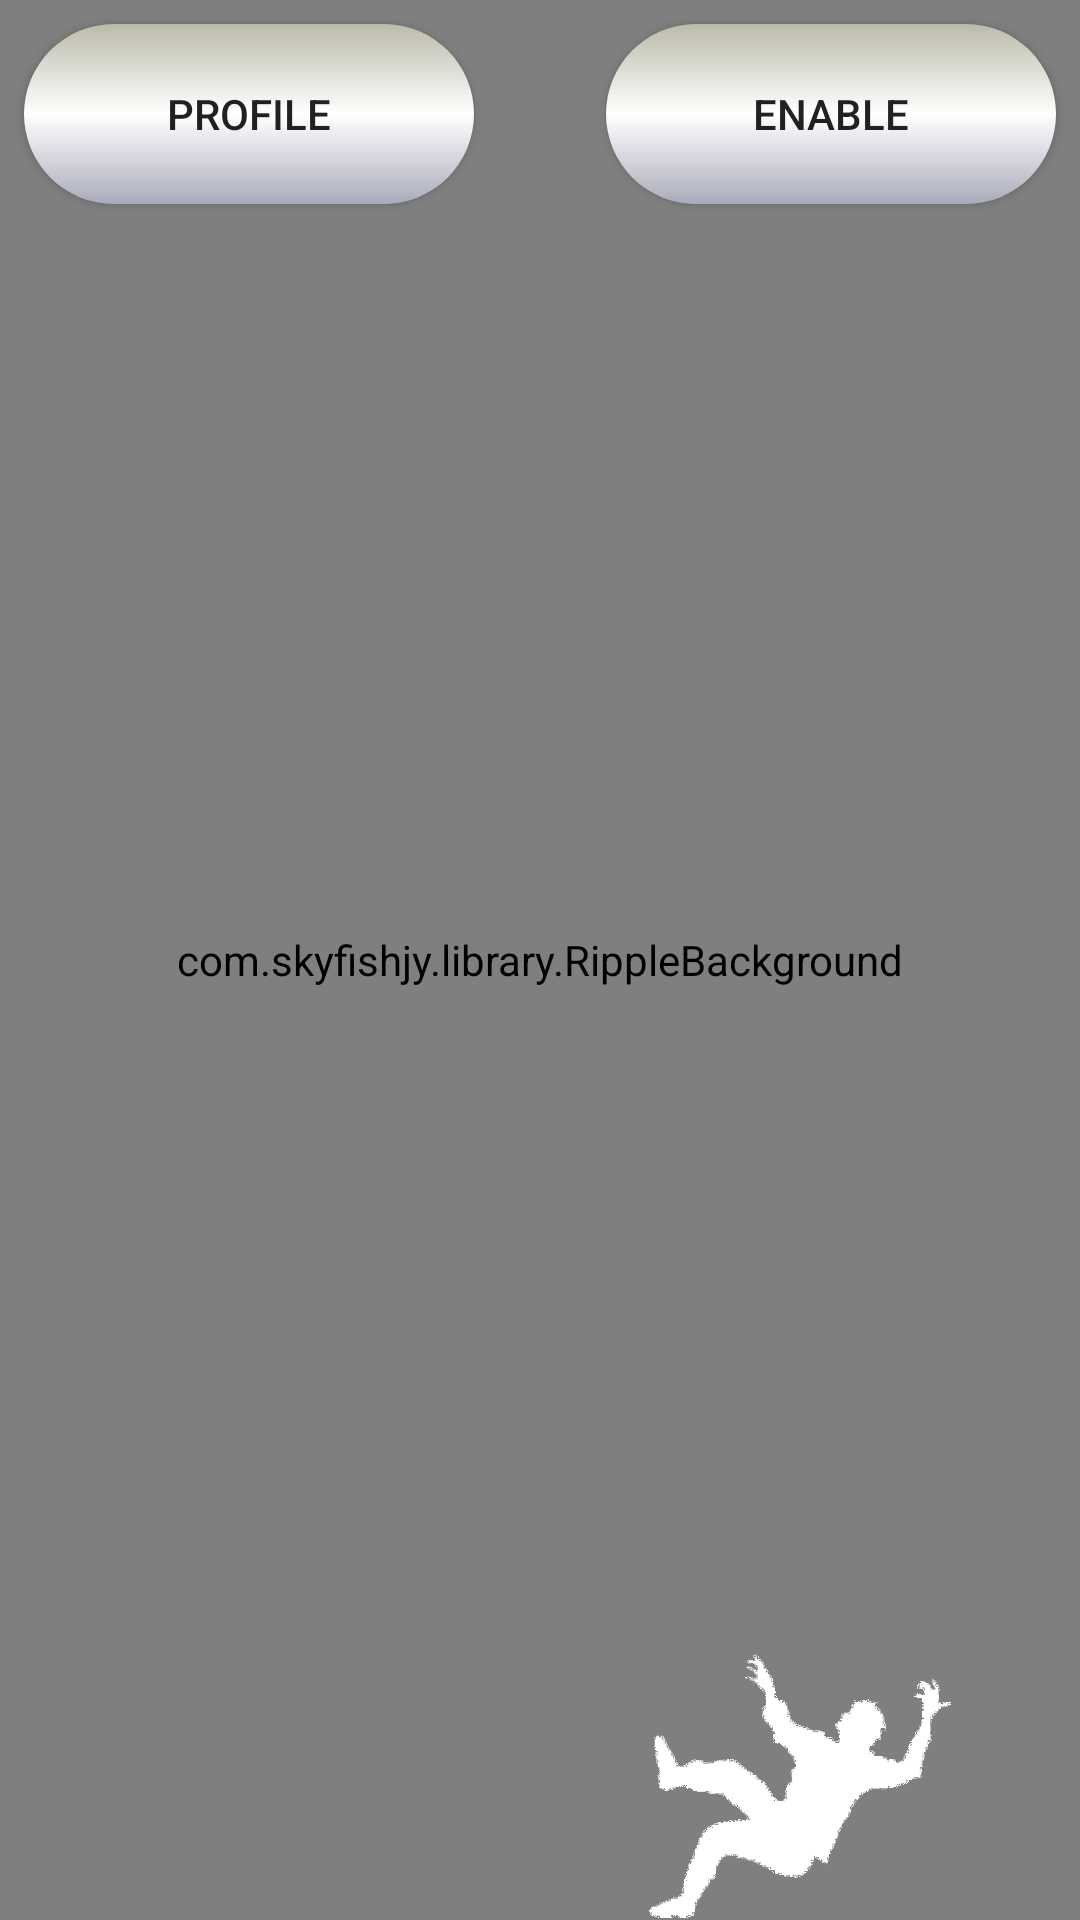

Where to tap for icons on this 1080px x 1920px app screen, as [x,y]:
Person Image: [800,1786]
